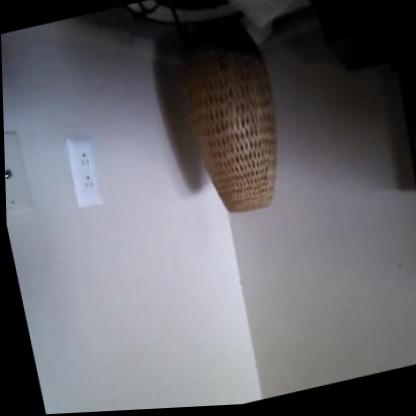OUTLET: (63, 132, 103, 209)
